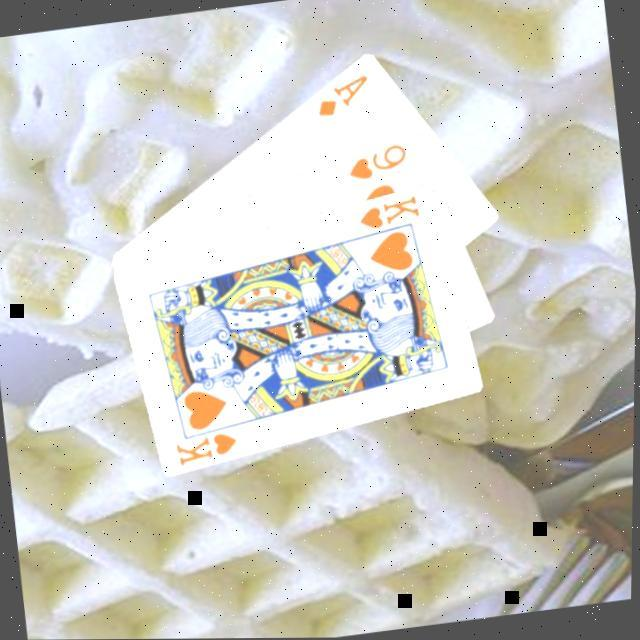9H: (344, 140, 415, 186)
AD: (312, 71, 378, 122)
KH: (355, 192, 427, 234), (174, 428, 246, 469)
